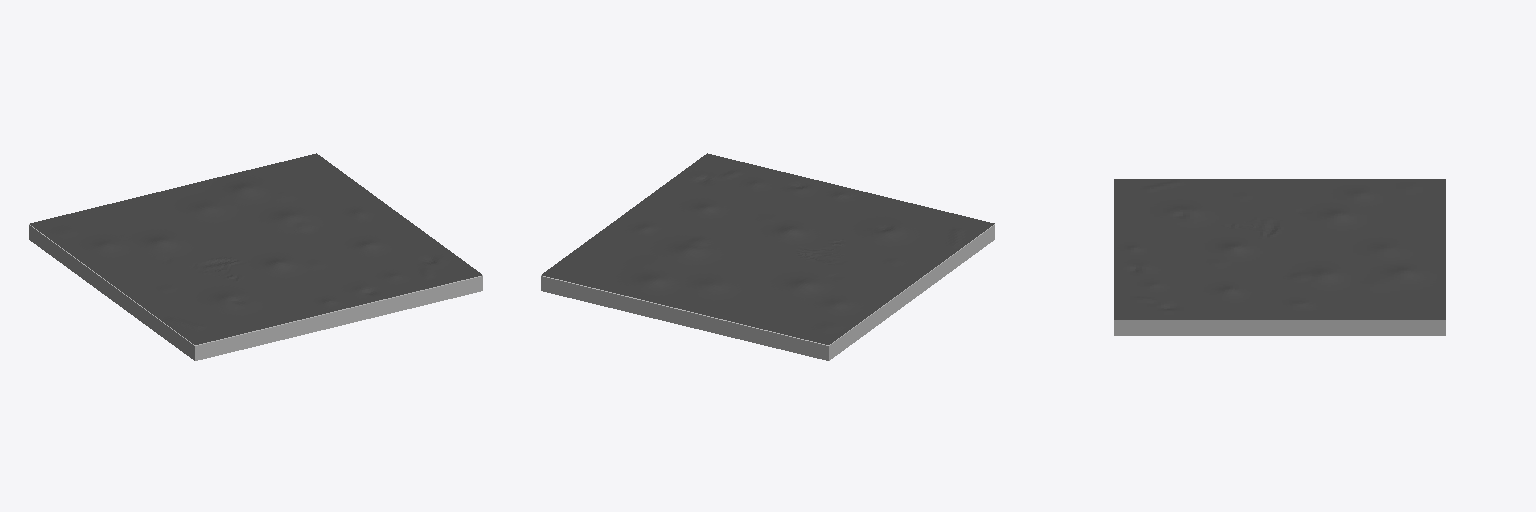
File: 2x2Tile.obj
3 views of the same model, side by side, from view 1: azimuth 30°, elevation 25°; view 2: azimuth 150°, elevation 25°; view 3: azimuth 270°, elevation 25° (orthographic).
Parts seen in each view (by area): view 1: Grid, Cube; view 2: Grid, Cube; view 3: Grid, Cube.
Part boxes in pixels (x1,y1,x2,y2): Grid: (30, 153, 481, 344); Cube: (29, 224, 482, 360); Grid: (542, 153, 994, 344); Cube: (541, 224, 994, 360); Grid: (1114, 179, 1445, 319); Cube: (1114, 320, 1445, 335).
Size of the model in its own units: 2 by 0.1229 by 2.